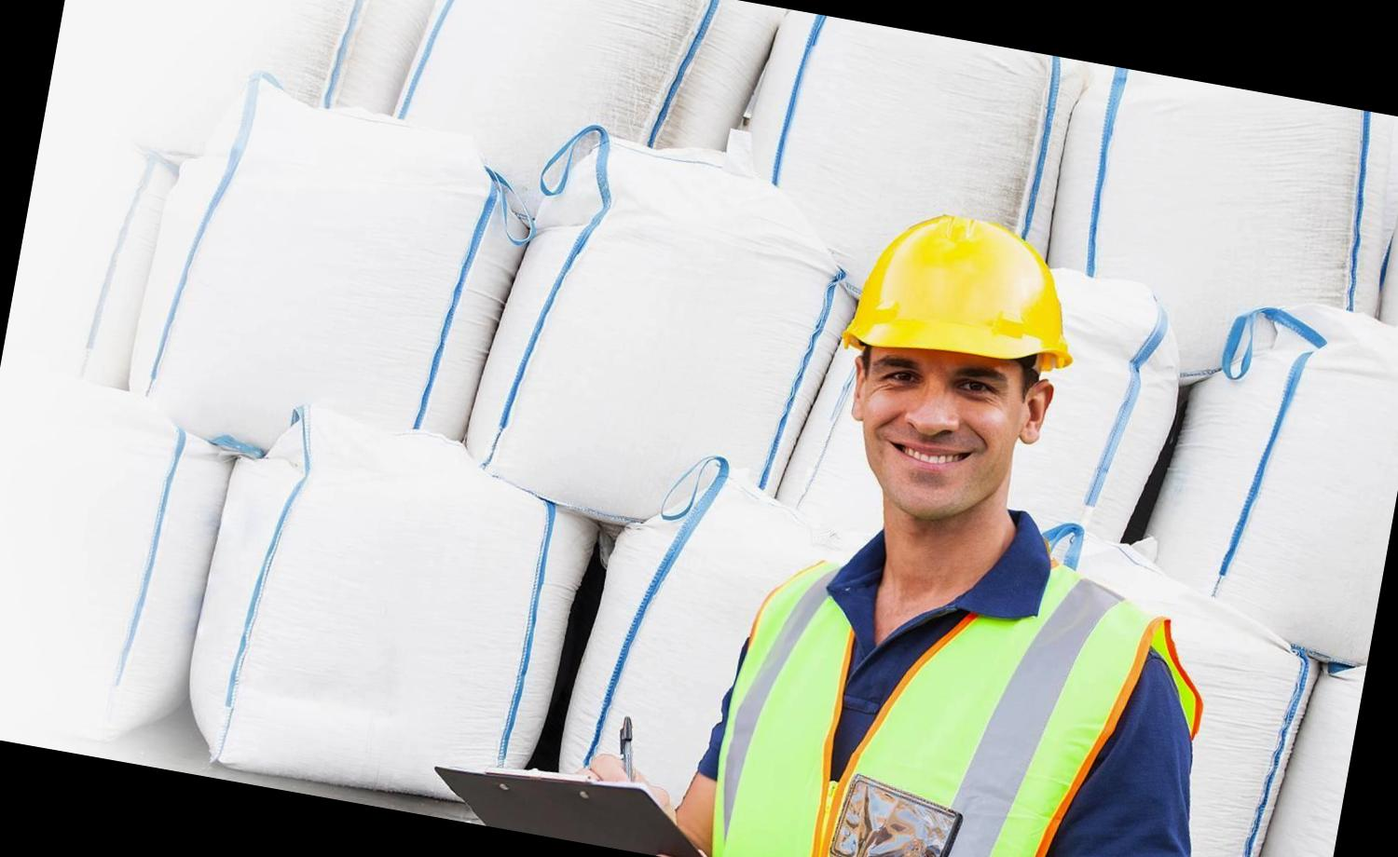helmet: (828, 190, 1097, 390)
person: (647, 161, 1313, 857)
